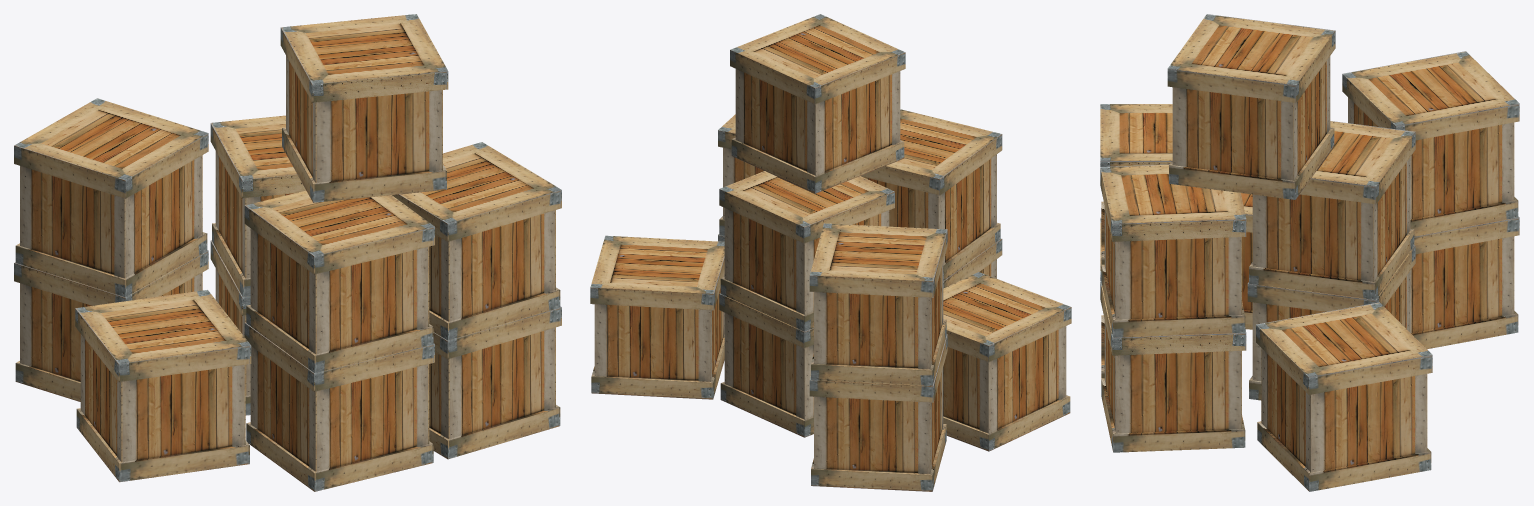
File: Crates_3.fbx
3 renders of one model, left to right at view 1: azimuth 30°, elevation 25°; view 2: azimuth 150°, elevation 25°; view 3: azimuth 270°, elevation 25°, orthographic. The views are drawn at different scales.
Parts seen in each view (by area): view 1: polySurface1; view 2: polySurface1; view 3: polySurface1.
Boxes of the visible parts, x1=… form: polySurface1: x1=14, y1=14, x2=561, y2=491; polySurface1: x1=590, y1=14, x2=1071, y2=491; polySurface1: x1=1100, y1=14, x2=1519, y2=491.
Bounding box in the file's own units: 243 × 174 × 192.
